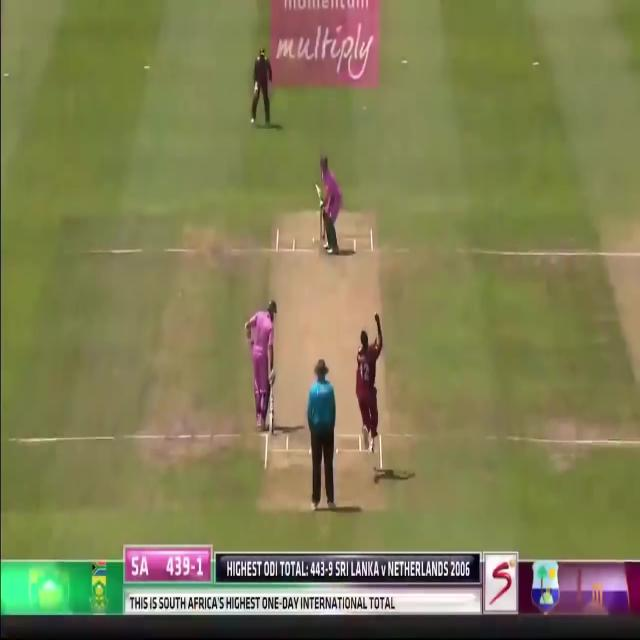Ball: (248, 296, 276, 433), (315, 154, 345, 255)
Fielder: (354, 315, 385, 471), (252, 48, 274, 128)
Umpire: (306, 358, 337, 510)
